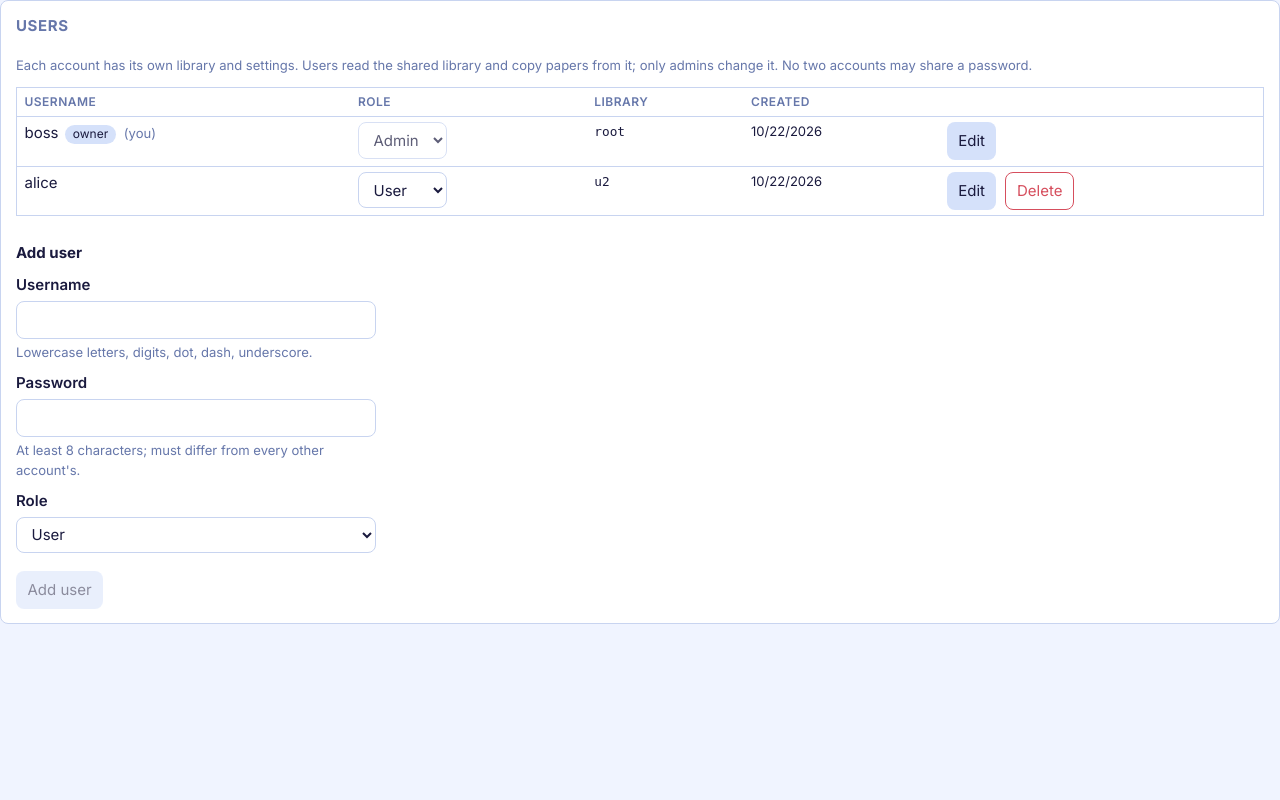
Test: UsersPanel › shows server errors
This screenshot has width=1280, height=800.
Select "Admin" in the dropdown named "Role of alice" at (402, 190), box [358,172,447,208]
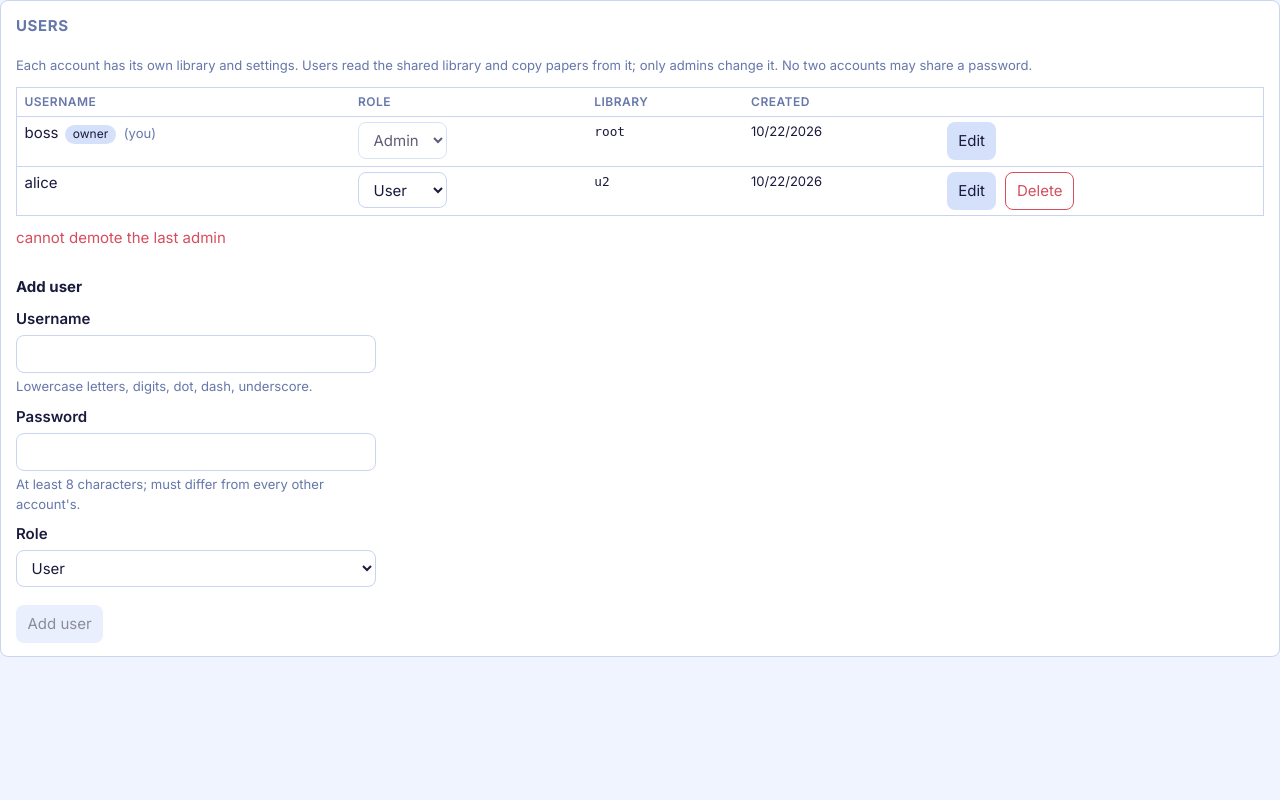
Check: the text "cannot demote the last admin" is shown, box [16,228,226,247]
